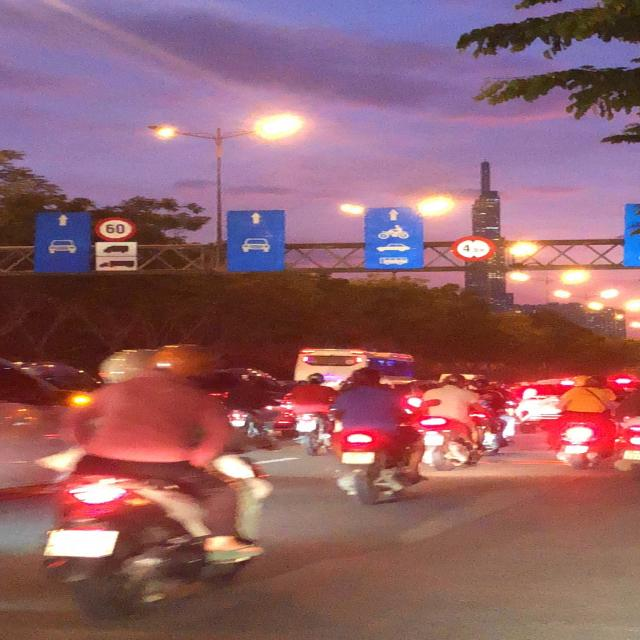Bien bao han che chieu cao: (449, 233, 495, 263)
Bien bao toc do toi da cho phep: (93, 215, 137, 241)
